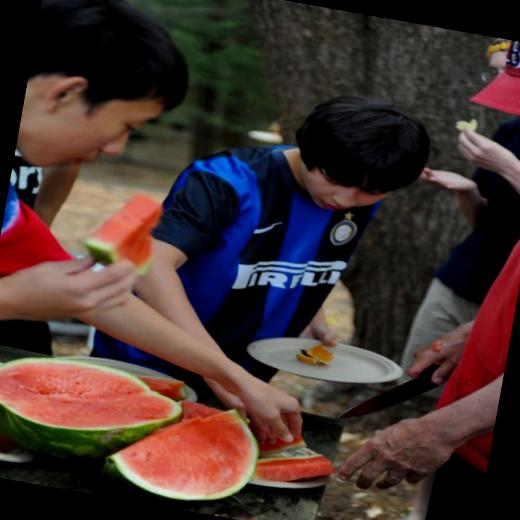Cherry: (0, 341, 188, 478), (103, 385, 260, 515), (80, 182, 170, 279), (254, 440, 335, 494), (256, 430, 310, 464), (132, 372, 191, 402)
